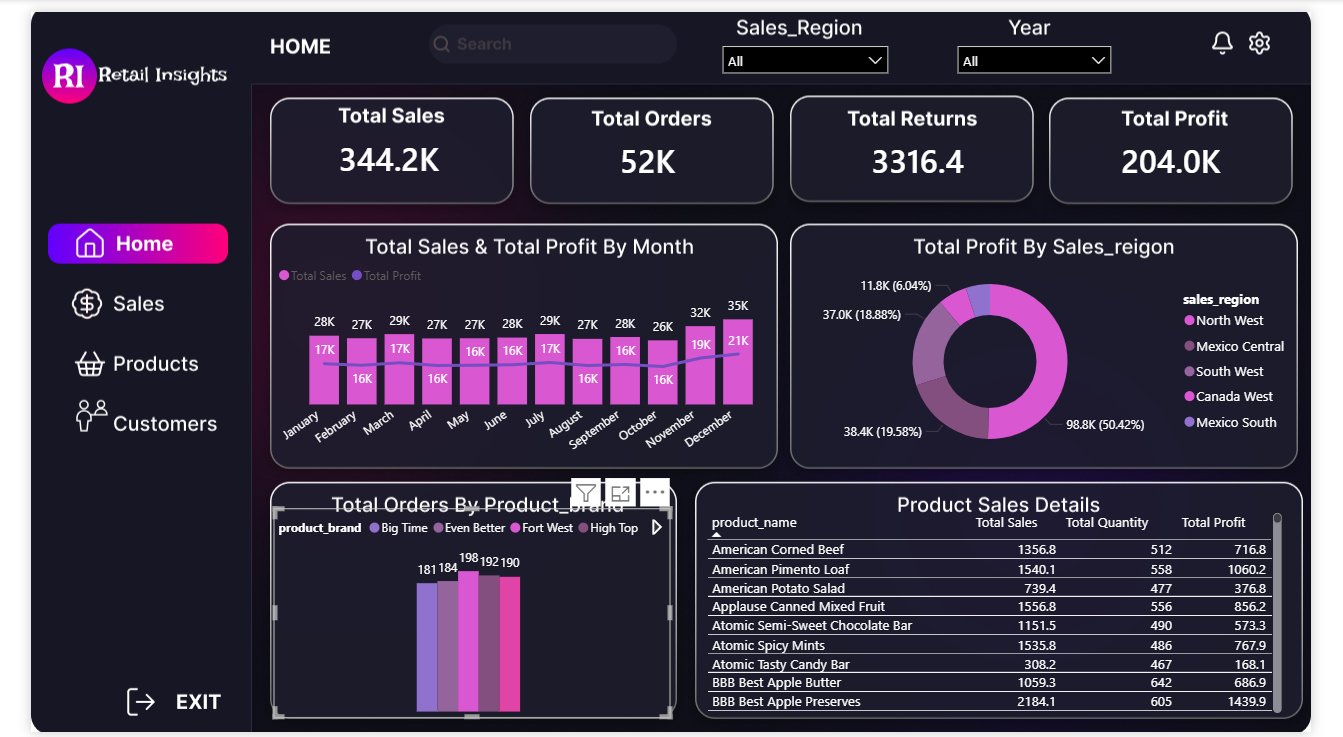

Layout of this report page (visuals, bound fields, positions):
{"tool":"powerbi","page":{"name":"home","canvas":[1280,720],"ordinal":0},"visuals":[{"type":"card","fields":{"Values":["Dax.Total Sales"]},"box":[256,110.7,203.6,71.4],"z":0},{"type":"card","fields":{"Values":["Dax.Total Orders"]},"box":[523.8,110.7,185.7,76.2],"z":1000},{"type":"card","fields":{"Values":["Dax.Total Returns"]},"box":[785.7,113.1,201.2,73.8],"z":2000},{"type":"card","fields":{"Values":["Dax.Total Profit"]},"box":[1040.5,113.1,200,73.8],"z":3000},{"type":"lineStackedColumnComboChart","fields":{"Y":["Dax.Total Sales"],"Y2":["Dax.Total Profit"],"Category":["retaildb calendar.date.Variation.Date Hierarchy.Month"]},"box":[242.9,244,500,211.9],"z":4000},{"type":"donutChart","fields":{"Category":["retaildb region.sales_region"],"Y":["Dax.Total Profit"]},"box":[760.7,244,506,211.9],"z":5000},{"type":"slicer","fields":{"Values":["retaildb calendar.date.Variation.Date Hierarchy.Year"]},"box":[916.7,23.8,173.8,40.5],"z":6000},{"type":"slicer","fields":{"Values":["retaildb region.sales_region"]},"box":[681,23.8,185.7,40.5],"z":7000},{"type":"clusteredColumnChart","fields":{"Y":["Dax.Total Orders"],"Series":["retaildb products.product_brand"]},"box":[242.9,496.4,397.6,209.5],"z":8000},{"type":"tableEx","fields":{"Values":["retaildb products.product_name","Dax.Total Sales","Dax.Total Quantity","Dax.Total Profit"]},"box":[670.2,496.4,585.7,209.5],"z":9000}]}

Visuals, with their boxes on the page's 1280x720 design canvas (x1, y1, x2, y2). These are canvas units, not pixel positions in the 1343x737 screenshot, which may show the page scaled, cropped or inside an application window:
card - Dax.Total Sales: bbox=(256, 111, 460, 182)
card - Dax.Total Orders: bbox=(524, 111, 710, 187)
card - Dax.Total Returns: bbox=(786, 113, 987, 187)
card - Dax.Total Profit: bbox=(1040, 113, 1240, 187)
lineStackedColumnComboChart - Dax.Total Sales x Dax.Total Profit: bbox=(243, 244, 743, 456)
donutChart - retaildb region.sales_region x Dax.Total Profit: bbox=(761, 244, 1267, 456)
slicer - retaildb calendar.date.Variation.Date Hierarchy.Year: bbox=(917, 24, 1090, 64)
slicer - retaildb region.sales_region: bbox=(681, 24, 867, 64)
clusteredColumnChart - Dax.Total Orders x retaildb products.product_brand: bbox=(243, 496, 640, 706)
tableEx - retaildb products.product_name x Dax.Total Sales: bbox=(670, 496, 1256, 706)
